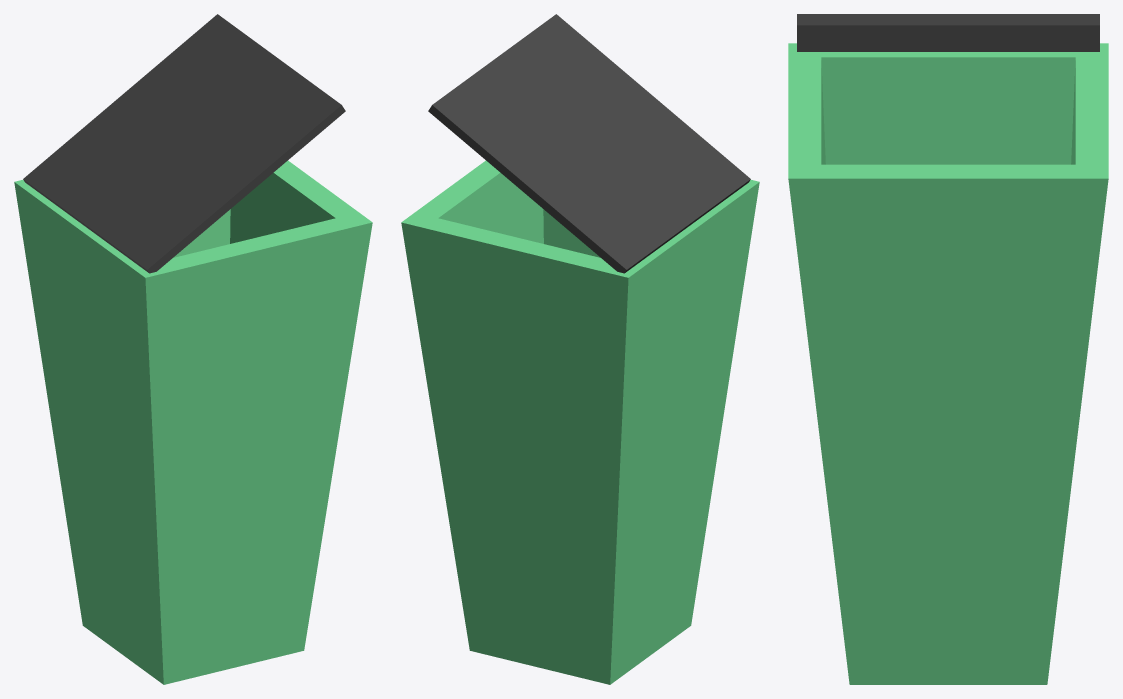
3 renders of one model, left to right at view 1: azimuth 30°, elevation 25°; view 2: azimuth 150°, elevation 25°; view 3: azimuth 270°, elevation 25°, orthographic. The views are drawn at different scales.
Parts seen in each view (by area): view 1: dustbin; view 2: dustbin; view 3: dustbin.
Part boxes in pixels (x1,y1,x2,y2): dustbin: (14,14,372,684); dustbin: (401,14,759,684); dustbin: (788,14,1108,684).
Size of the model in its own units: 0.3038 by 0.7122 by 0.3038.
